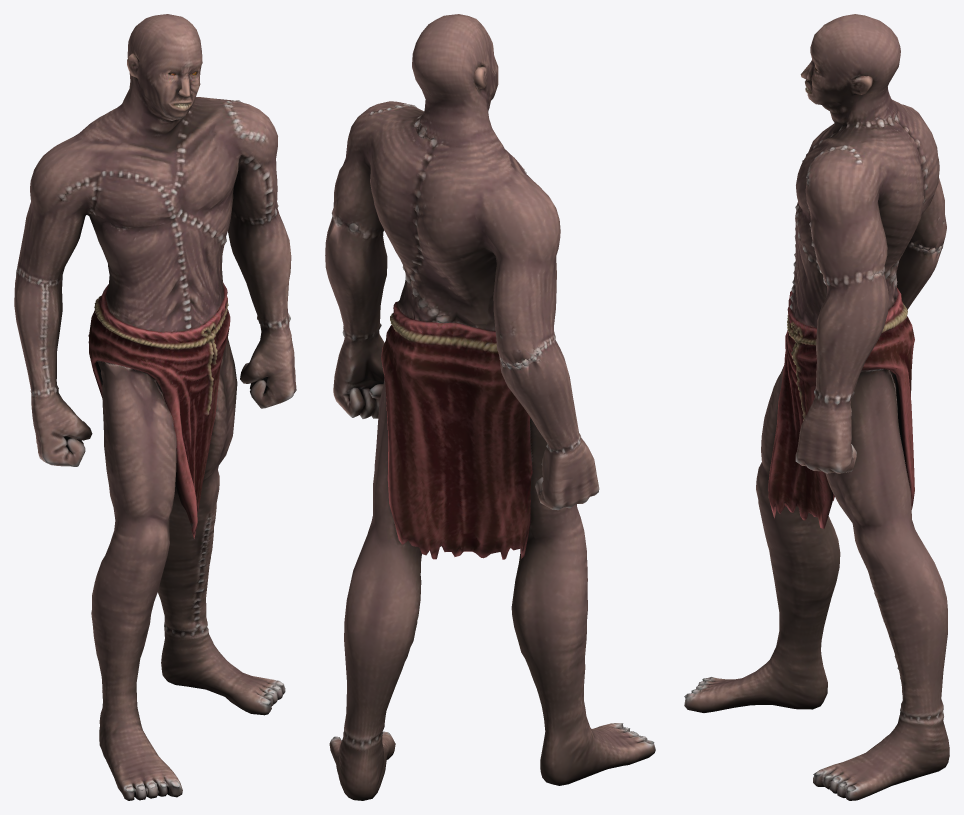
File: MZ4250 - Flesh Golem.glb
The picture shows the model from 3 angles, left to right: view 1: azimuth 30°, elevation 25°; view 2: azimuth 150°, elevation 25°; view 3: azimuth 270°, elevation 25°; orthographic projection. The views are drawn at different scales.
Parts seen in each view (by area): view 1: body_low.001; view 2: body_low.001; view 3: body_low.001.
Part boxes in pixels (x1=…): body_low.001: x1=14, y1=14, x2=296, y2=800; body_low.001: x1=325, y1=14, x2=655, y2=800; body_low.001: x1=684, y1=14, x2=949, y2=800.
Bounding box in the file's own units: 2.33 × 6.36 × 2.1.
1 material, 1 textured.
